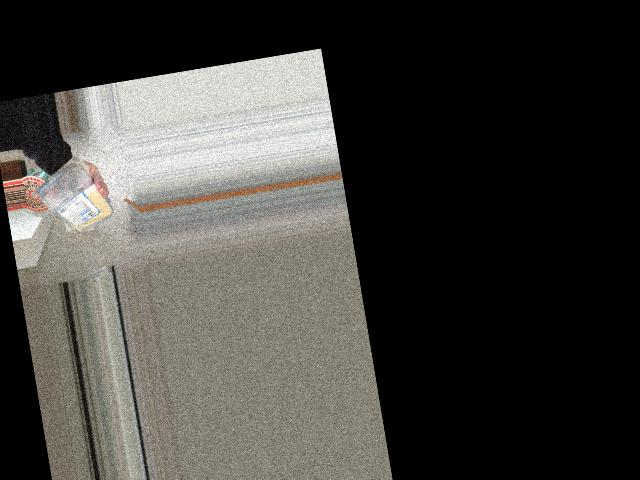cheese: (32, 163, 107, 243)
